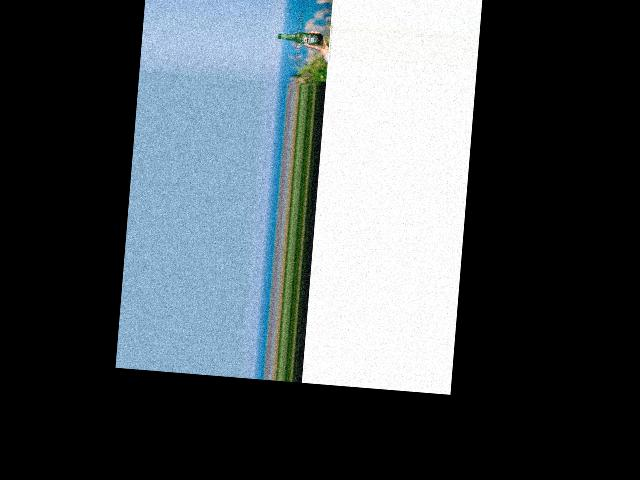beer: (277, 30, 323, 45)
